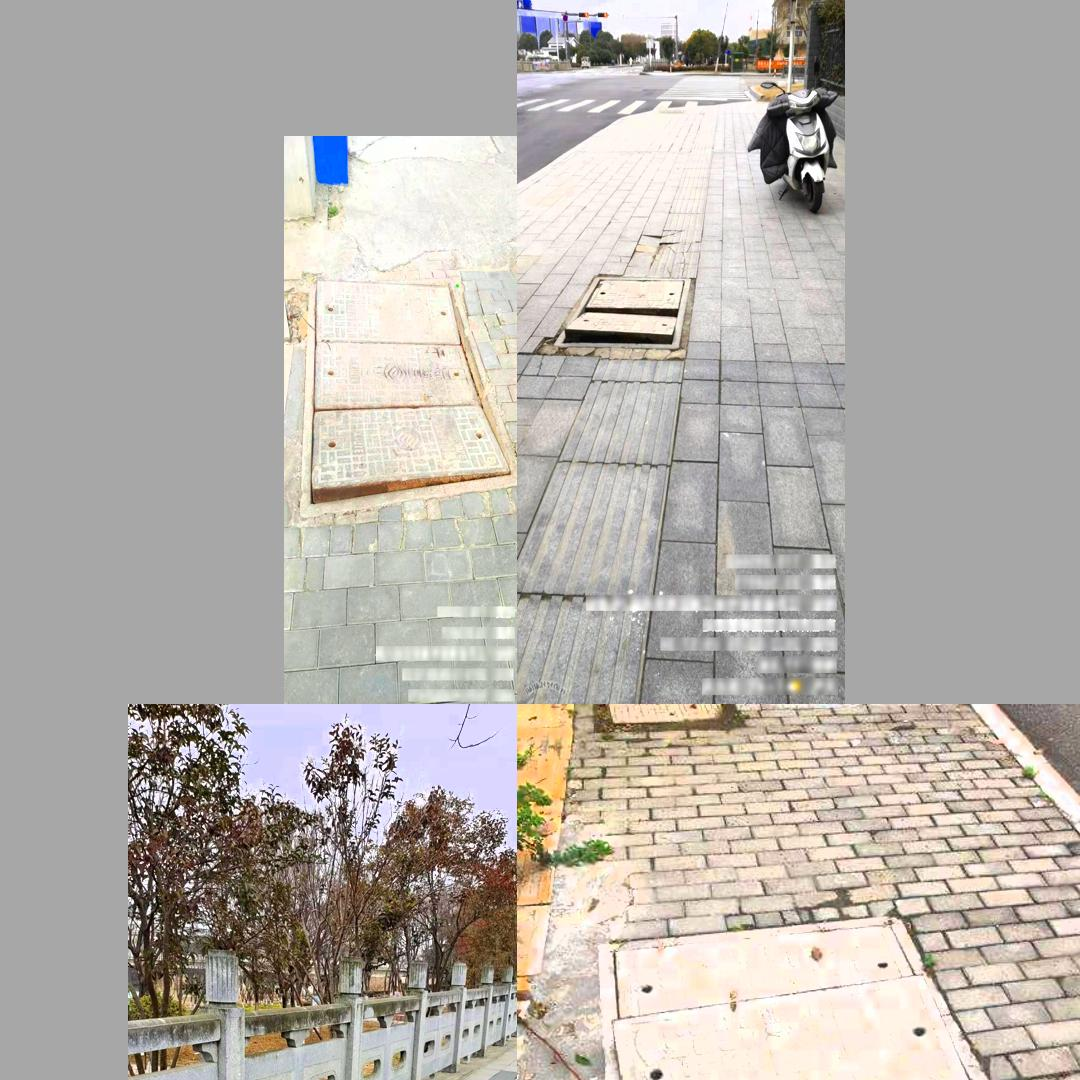uncovered: (598, 917, 1070, 1080), (299, 276, 512, 517), (553, 274, 692, 353)
